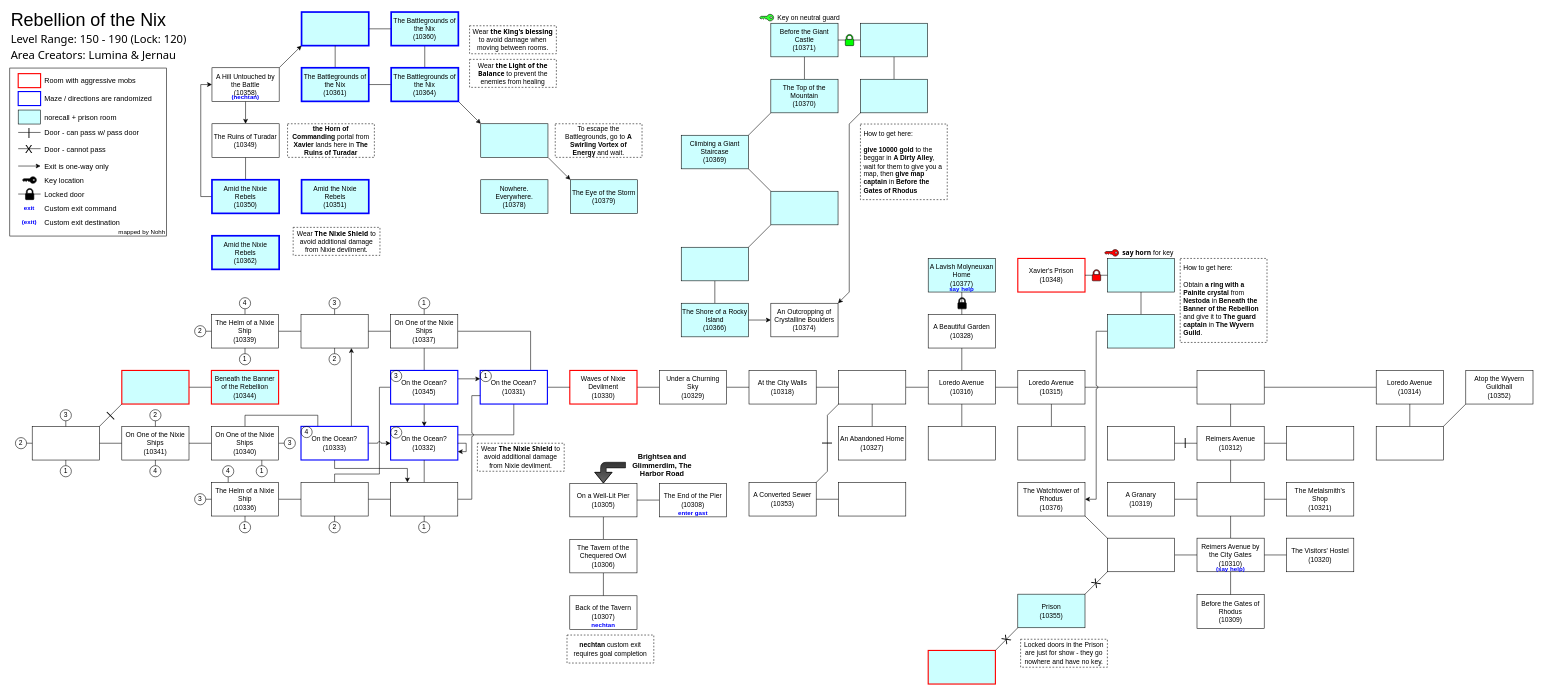
Image size: 1543x694. Some labels were removed from this diagram. Here are the shapes that lost their labels. From the top down, the centre of each, then its label:
the point at 334,28: The Battlegrounds of the Nix (10359)
the point at 894,40: Heth's Castle (10372)
the point at 894,96: The Parapet of Heth's Castle (10373)
the point at 514,140: A Swirling Vortex of Energy (10365)
the point at 804,208: Climbing a Giant Staircase (10368)
the point at 714,264: The Bottom of a Giant Staircase (10367)
the point at 1141,275: Before a Great Barrow (10347)
the point at 334,331: On One of the Nixie Ships (10338)
the point at 1141,331: Following a Small Stream (10346)
the point at 155,387: On the Flagship's Upper Deck (10343)
the point at 872,387: The Abandoned Edge of Loredo Avenue (10317)
the point at 1230,387: Orduna Plaza (10313)
the point at 65,443: At the Helm of a Nixie Ship (10342)
the point at 961,443: A Dirty Alley (10326)
the point at 1051,443: A Craftsman's Home (10325)
the point at 1141,443: A Molyneuxan Home (10323)
the point at 1320,443: A Closed-Down Shop (10322)
the point at 1409,443: The Wyvern Guild (10324)
the point at 334,499: On One of the Nixie Ships (10335)
the point at 424,499: On One of the Nixie Ships (10334)
the point at 872,499: Sewer Hideaway (10354)
the point at 1230,499: Reimers Avenue (10311)
the point at 1141,555: Guard Post at the Bottom of a Tower (10375)
the point at 961,667: Torture Chamber (10356)
